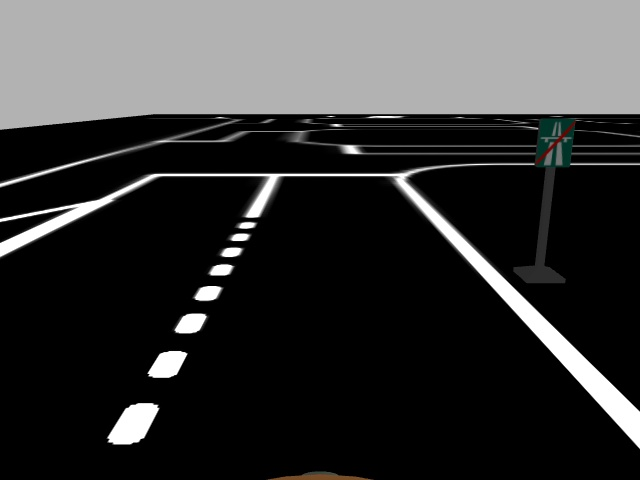leave_highway: (532, 117, 577, 169)
